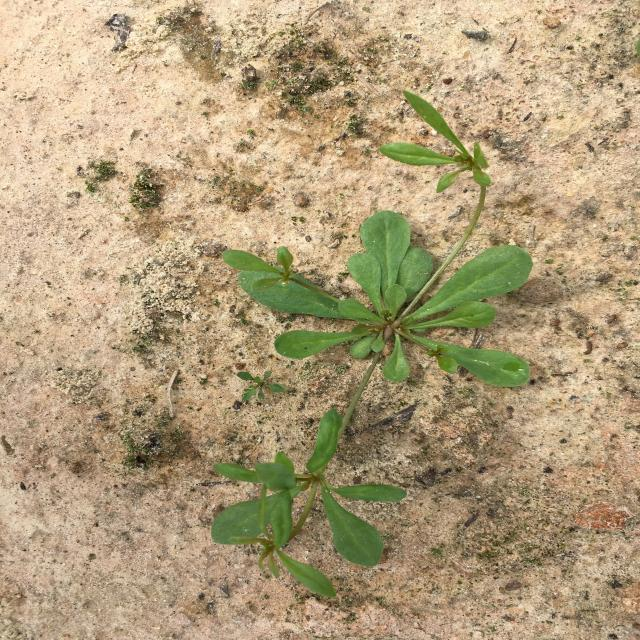Carpetweed: (210, 90, 534, 598), (237, 370, 290, 402)
